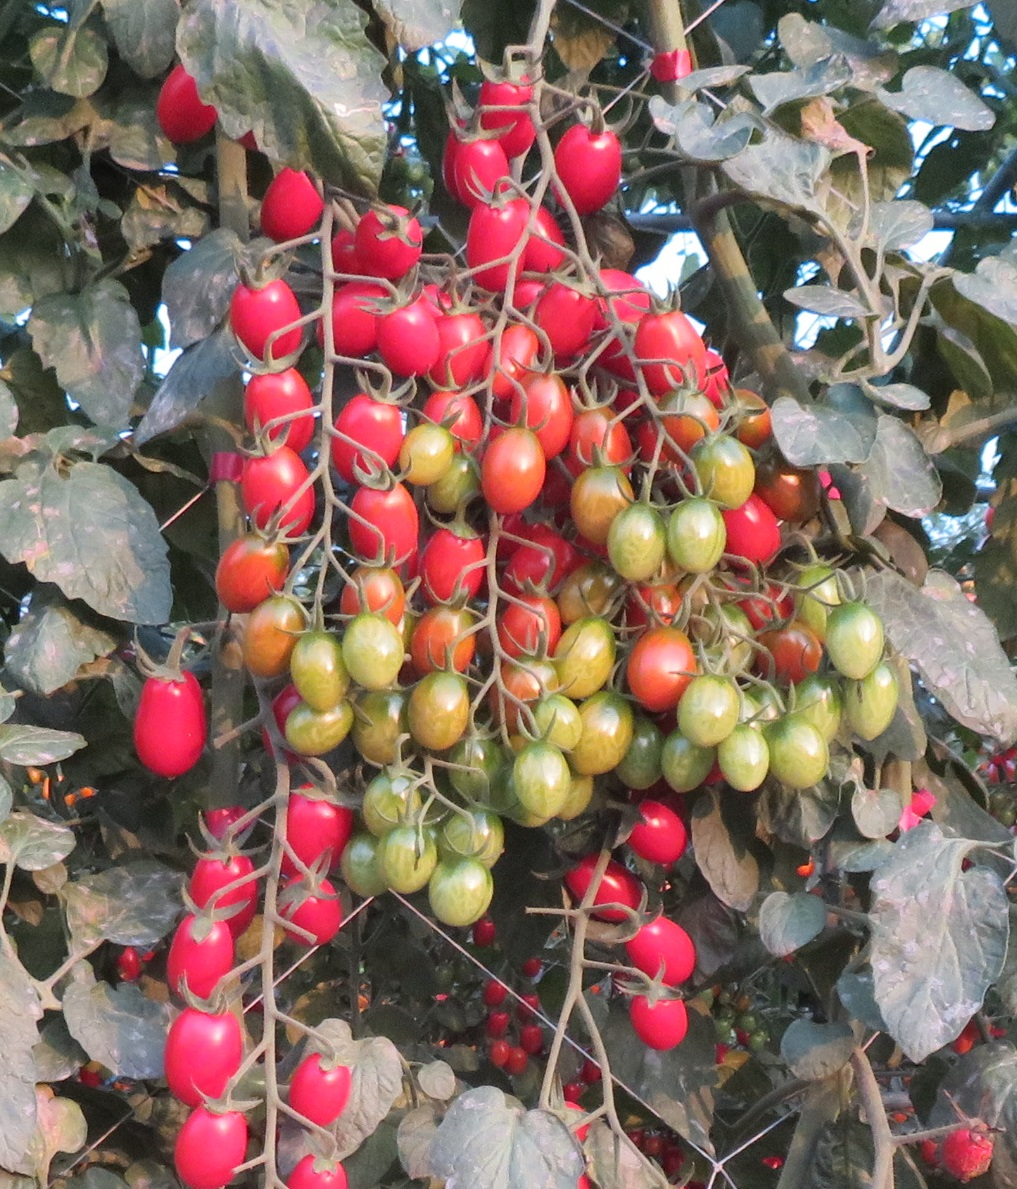green: (284, 635, 356, 710), (405, 682, 473, 760), (681, 435, 757, 505), (508, 741, 572, 819), (286, 697, 357, 762), (346, 615, 403, 697), (566, 614, 616, 705), (425, 862, 492, 930), (365, 774, 432, 842), (400, 423, 463, 493), (607, 505, 662, 587), (578, 707, 642, 776), (683, 668, 731, 753), (668, 500, 723, 573), (771, 715, 825, 789), (835, 602, 888, 678), (352, 694, 405, 767), (577, 466, 641, 519), (719, 737, 774, 798), (665, 726, 710, 798), (378, 837, 431, 899), (434, 458, 478, 521), (856, 674, 895, 744), (798, 678, 849, 729), (532, 707, 583, 750)
orange: (478, 428, 544, 524), (210, 536, 284, 621), (629, 630, 697, 705), (244, 592, 299, 677), (490, 663, 556, 730), (570, 404, 637, 469), (521, 367, 567, 453), (419, 607, 482, 670), (340, 566, 407, 622), (500, 599, 562, 656)
red: (128, 674, 215, 783), (168, 999, 244, 1113), (550, 115, 620, 219), (163, 1099, 249, 1184), (240, 367, 318, 452), (467, 195, 532, 295), (230, 281, 309, 361), (244, 450, 313, 540), (166, 916, 231, 1003), (373, 298, 442, 377), (334, 404, 398, 483), (284, 788, 351, 861), (288, 1052, 352, 1128), (635, 305, 697, 382), (312, 285, 379, 355), (260, 166, 320, 245), (155, 63, 215, 140), (566, 858, 638, 922), (356, 210, 418, 283), (349, 492, 414, 562), (429, 534, 493, 602), (635, 919, 702, 982), (191, 855, 253, 920), (722, 504, 784, 569), (481, 85, 536, 155), (440, 310, 488, 386), (286, 882, 339, 951), (634, 987, 689, 1053), (545, 281, 592, 358), (452, 133, 504, 197), (508, 534, 570, 584), (632, 812, 683, 857), (284, 1159, 351, 1189)
